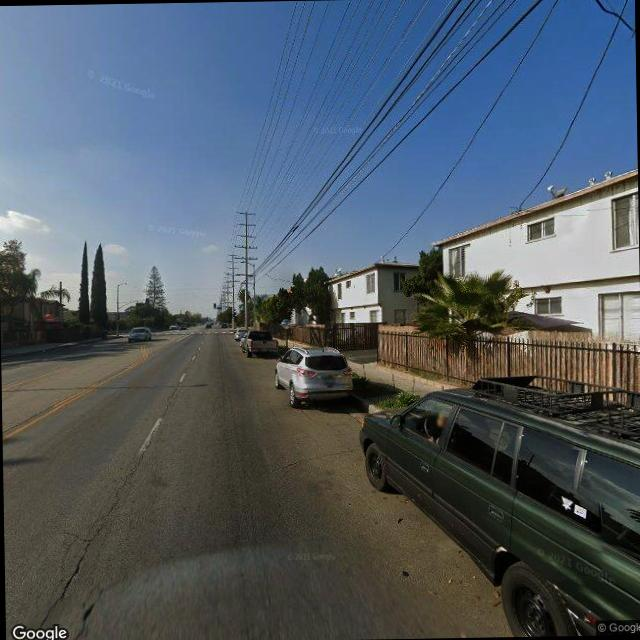crack: (37, 386, 183, 624), (269, 440, 370, 473)
